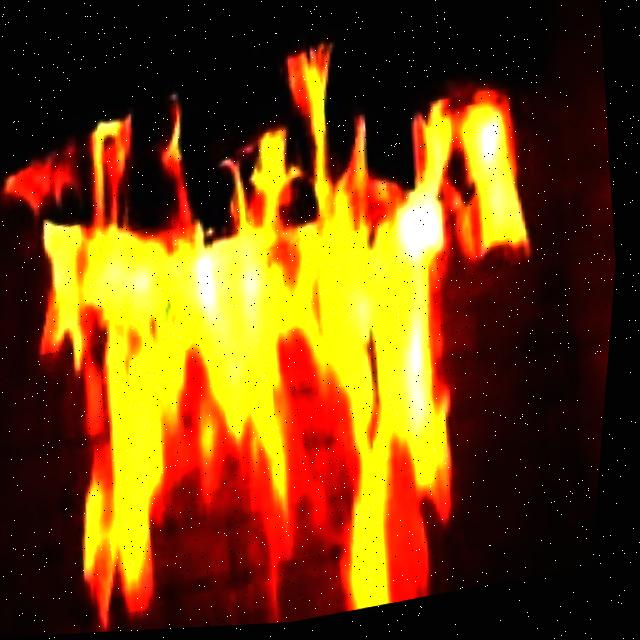Fire: (0, 0, 603, 640)
